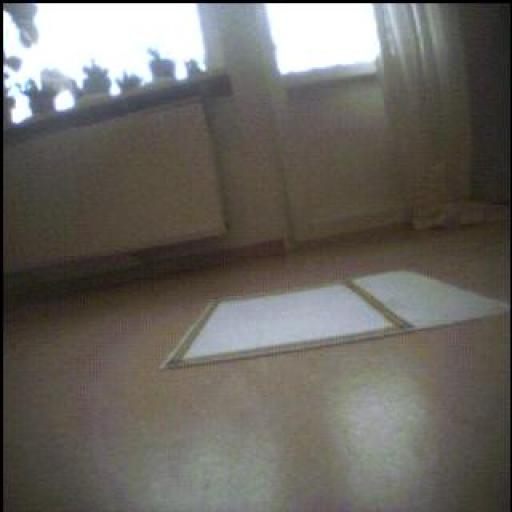Pad: (164, 271, 510, 369)
